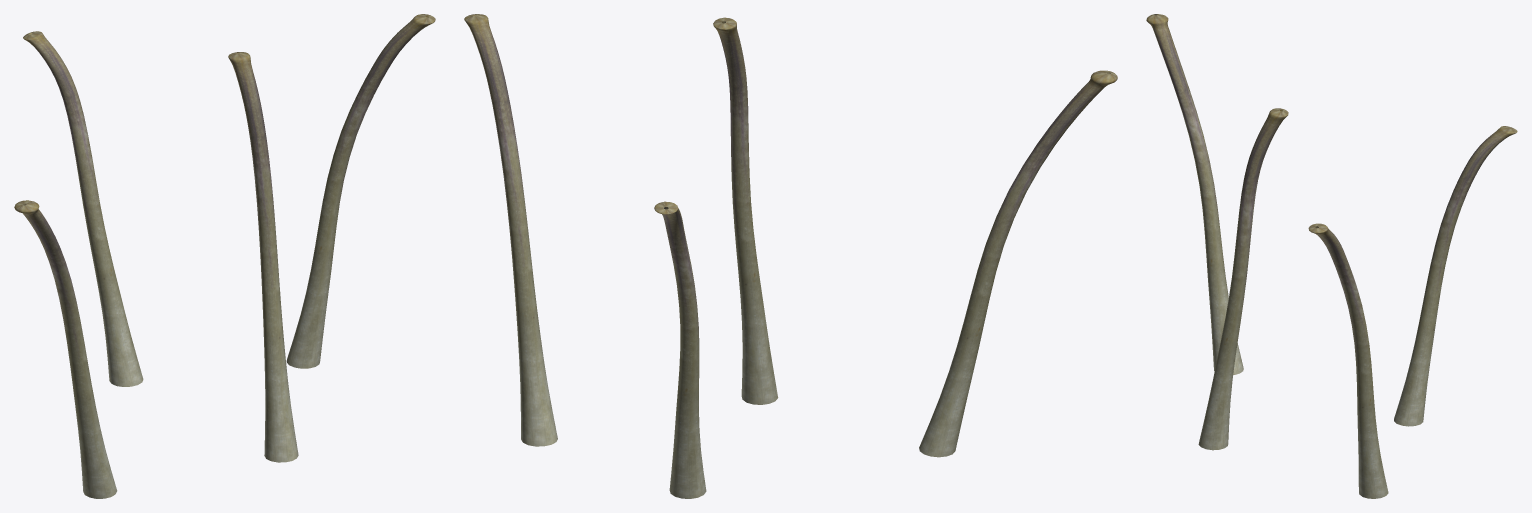
Rendered from stems.dae.
The picture shows the model from 3 angles, left to right: view 1: azimuth 30°, elevation 25°; view 2: azimuth 150°, elevation 25°; view 3: azimuth 270°, elevation 25°; orthographic projection. The views are drawn at different scales.
Parts seen in each view (by area): view 1: Stems; view 2: Stems; view 3: Stems.
Boxes of the visible parts, bbox=[...] form: Stems: bbox=[14, 14, 435, 498]; Stems: bbox=[464, 14, 1117, 498]; Stems: bbox=[1146, 14, 1517, 498].
Bounding box in the file's own units: 0.0737 × 0.0528 × 0.0521.
Materials: 1 (1 with a texture image).
